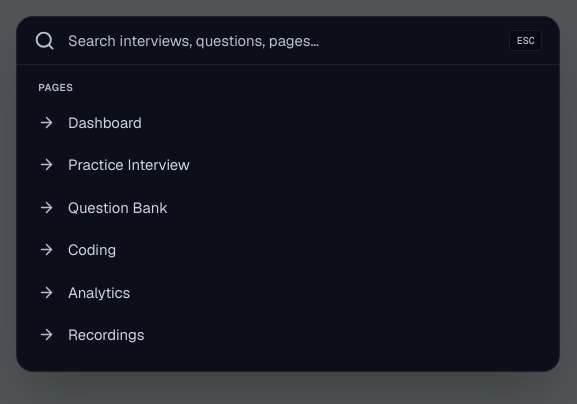
Scenario: SearchModal › routes coding questions to /coding
Type "two" into the field with placeholder "Search interviews, questions, pages…". click: (282, 41)
box: [68, 30, 496, 51]
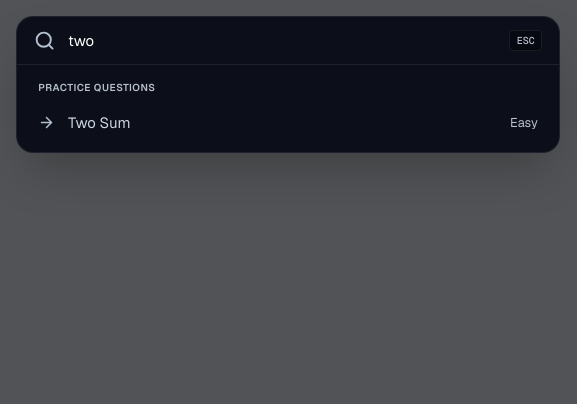
expect the text "Two Sum" is shown: met, box [68, 113, 131, 132]
